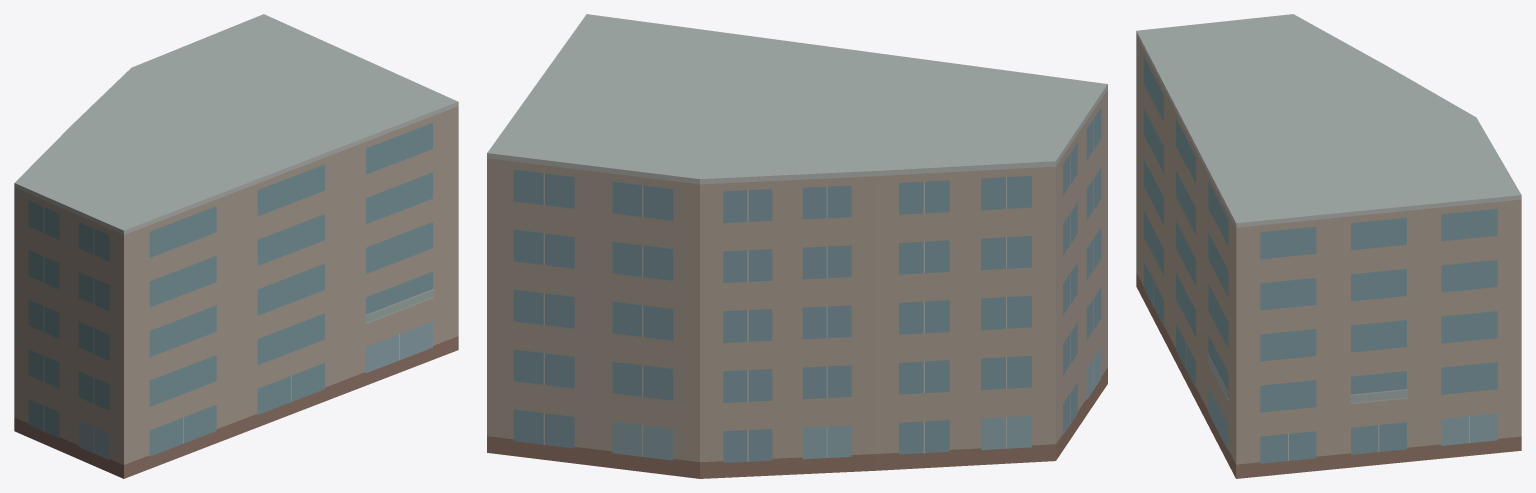
File: survey-upis-32775761.glb
The picture shows the model from 3 angles, left to right: view 1: azimuth 30°, elevation 25°; view 2: azimuth 150°, elevation 25°; view 3: azimuth 270°, elevation 25°; orthographic projection. The views are drawn at different scales.
Parts seen in each view (by area): view 1: survey-upis-32775761.tmp; view 2: survey-upis-32775761.tmp; view 3: survey-upis-32775761.tmp.
Part boxes in pixels (x1,y1,x2,y2): survey-upis-32775761.tmp: [14, 14, 458, 478]; survey-upis-32775761.tmp: [487, 14, 1107, 478]; survey-upis-32775761.tmp: [1136, 14, 1521, 478].
Size of the model in its own units: 24.41 by 13.9 by 19.
